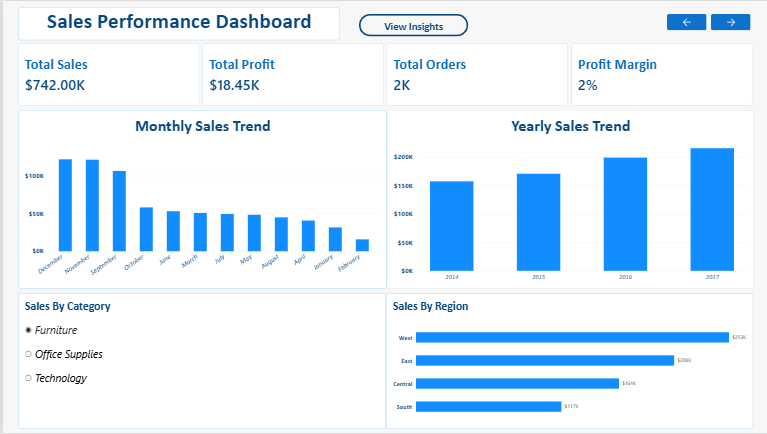

Layout of this report page (visuals, bound fields, positions):
{"tool":"powerbi","page":{"name":"Executive Sales Overview","canvas":[1920,1080],"ordinal":0},"visuals":[{"type":"textbox","title":"Sales Performance Dashboard","box":[37.5,15,805,82.5],"z":0},{"type":"cardVisual","fields":{"Data":["_Measures.Total Sales","_Measures.Total Profit","_Measures.Total Orders","_Measures.Profit Margin"]},"box":[37.5,105,1837.5,157.5],"z":1000},{"type":"columnChart","title":"Monthly Sales Trend","fields":{"Category":["sales.month_name"],"Y":["_Measures.Total Sales"]},"box":[36.7,272.2,922.3,447.1],"z":2000},{"type":"clusteredBarChart","title":"Sales By Region","fields":{"Category":["sales.region"],"Y":["_Measures.Total Sales"]},"box":[957.5,730,917.5,340],"z":3000},{"type":"listSlicer","title":"Sales By Category","fields":{"Values":["sales.category"]},"box":[38,730,920,340],"z":4000},{"type":"actionButton","box":[1658.9,32.4,99.4,41],"z":5000},{"type":"actionButton","box":[1769,32.4,99.4,41],"z":6000},{"type":"columnChart","title":"Yearly Sales Trend","fields":{"Category":["sales.year"],"Y":["_Measures.Total Sales"]},"box":[959,272,917,447],"z":7000},{"type":"actionButton","title":"view insights","box":[890,32.9,272.9,55.7],"z":9000}]}

Visuals, with their boxes in screenshot pixels (x1, y1, x2, y2), scaled from the page's 1920x1080 canvas onto the 767x434 screenshot:
"Sales Performance Dashboard" textbox: 15, 6, 337, 39
cardVisual - _Measures.Total Sales x _Measures.Total Profit: 15, 42, 749, 105
"Monthly Sales Trend" columnChart: 15, 109, 383, 289
"Sales By Region" clusteredBarChart: 383, 293, 749, 430
"Sales By Category" listSlicer: 15, 293, 383, 430
actionButton: 663, 13, 702, 29
actionButton: 707, 13, 746, 29
"Yearly Sales Trend" columnChart: 383, 109, 749, 289
"view insights" actionButton: 356, 13, 465, 36
